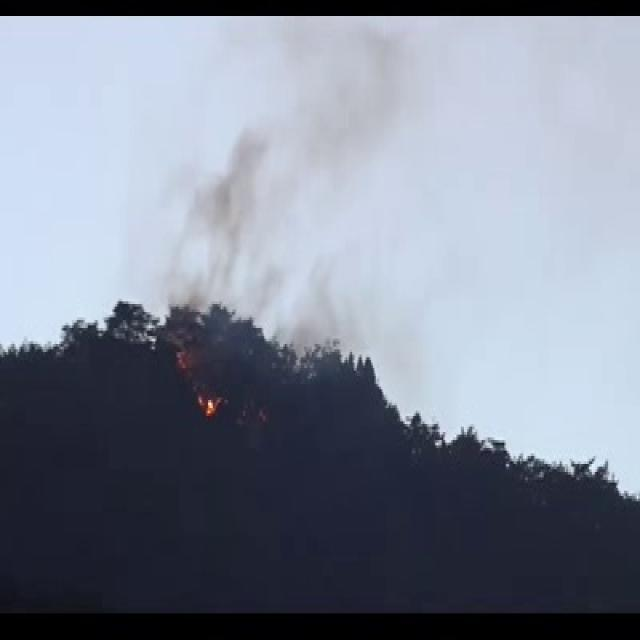Fire: (168, 325, 254, 423)
Smoke: (186, 148, 344, 298)
